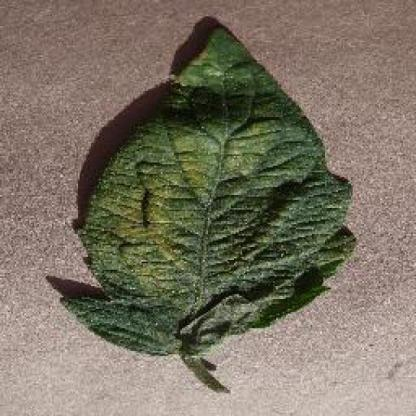Tomato_Spider_Mites: (65, 28, 355, 349)
